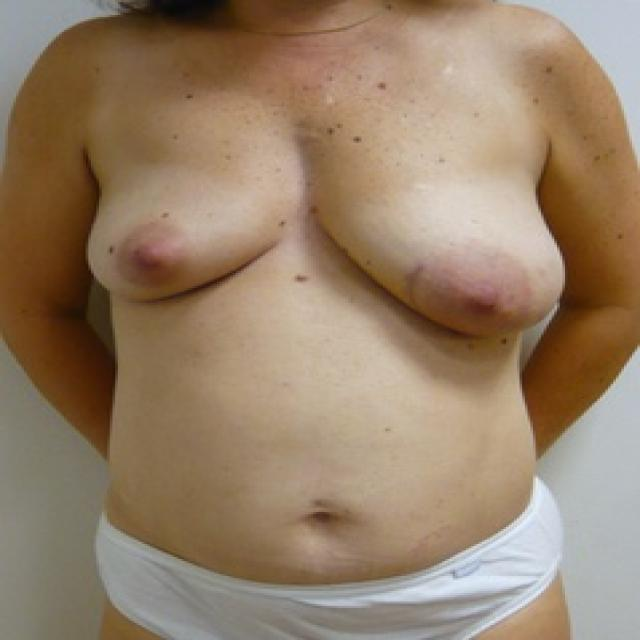Seno ileso: (306, 130, 577, 352), (76, 130, 298, 318)
